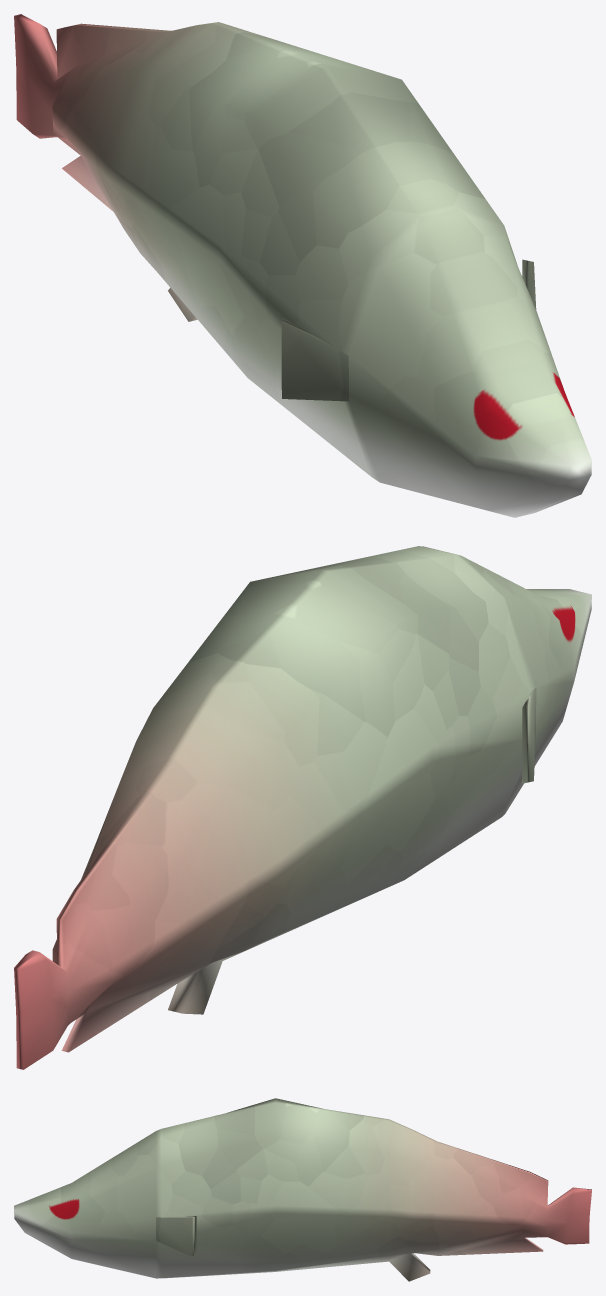
File: pillarc_mitame.fbx
3 views of the same model, one above another, from view 1: azimuth 30°, elevation 25°; view 2: azimuth 150°, elevation 25°; view 3: azimuth 270°, elevation 25° (orthographic). The views are drawn at different scales.
Parts seen in each view (by area): view 1: piraruku; view 2: piraruku; view 3: piraruku.
Boxes of the visible parts, box(x1,y1,x2,y2) form: piraruku: box(14, 14, 591, 517); piraruku: box(14, 546, 591, 1069); piraruku: box(14, 1098, 591, 1281).
Size of the model in its own units: 2.03 by 2.67 by 7.86.
